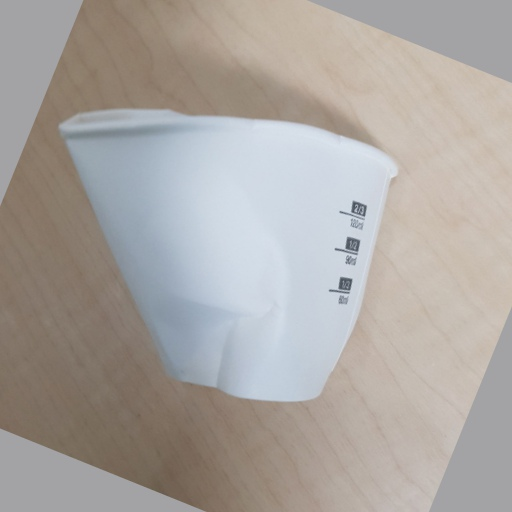Paper_1: (57, 106, 404, 405)
